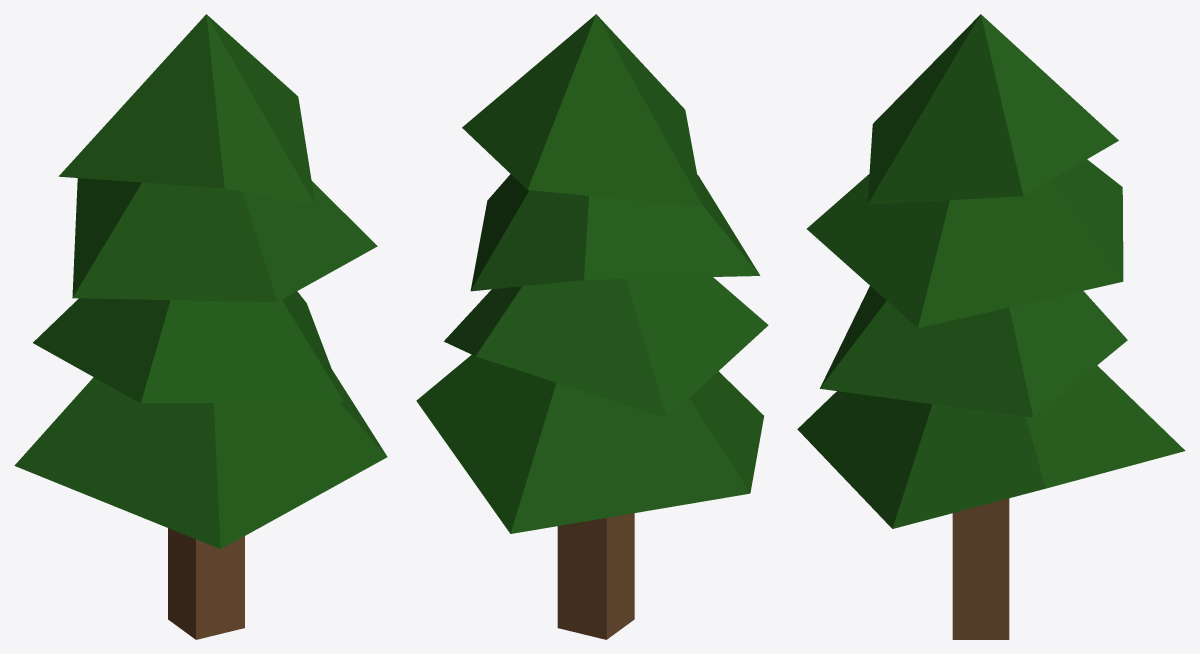
The model's file is tree3.fbx.
The picture shows the model from 3 angles, left to right: view 1: azimuth 30°, elevation 25°; view 2: azimuth 150°, elevation 25°; view 3: azimuth 270°, elevation 25°; orthographic projection.
Visible parts, largest first — view 1: kuudi; view 2: kuudi; view 3: kuudi.
Boxes of the visible parts, x1,y1,x2,y2 form: kuudi: (14, 14, 387, 639); kuudi: (416, 14, 768, 639); kuudi: (797, 14, 1185, 639).
Bounding box in the file's own units: 4.21 × 7.65 × 4.39.
